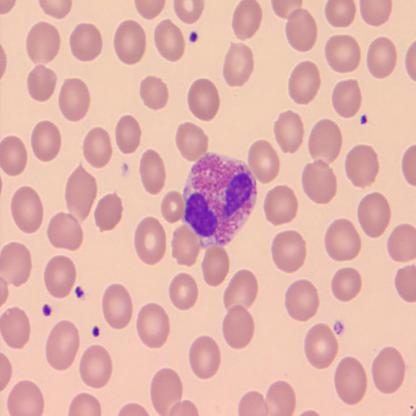Eosinophil: (183, 149, 259, 246)
